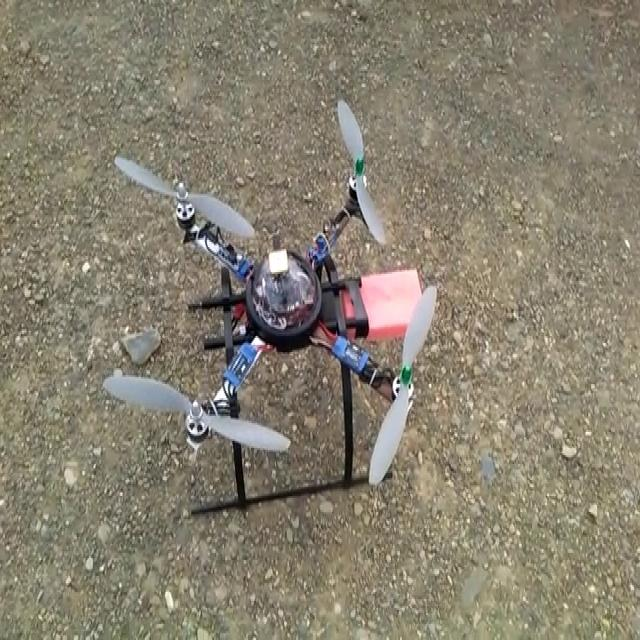drone: (100, 93, 438, 519)
